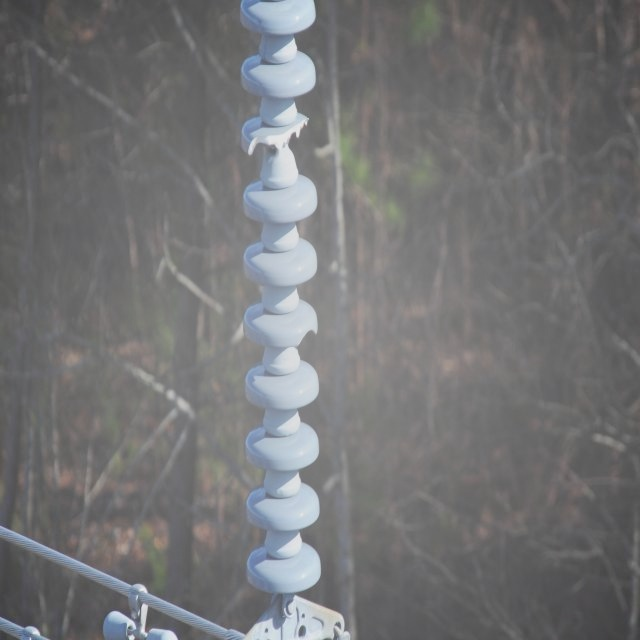broken: (246, 116, 312, 156), (296, 325, 316, 350)
insulator: (237, 0, 324, 596)
